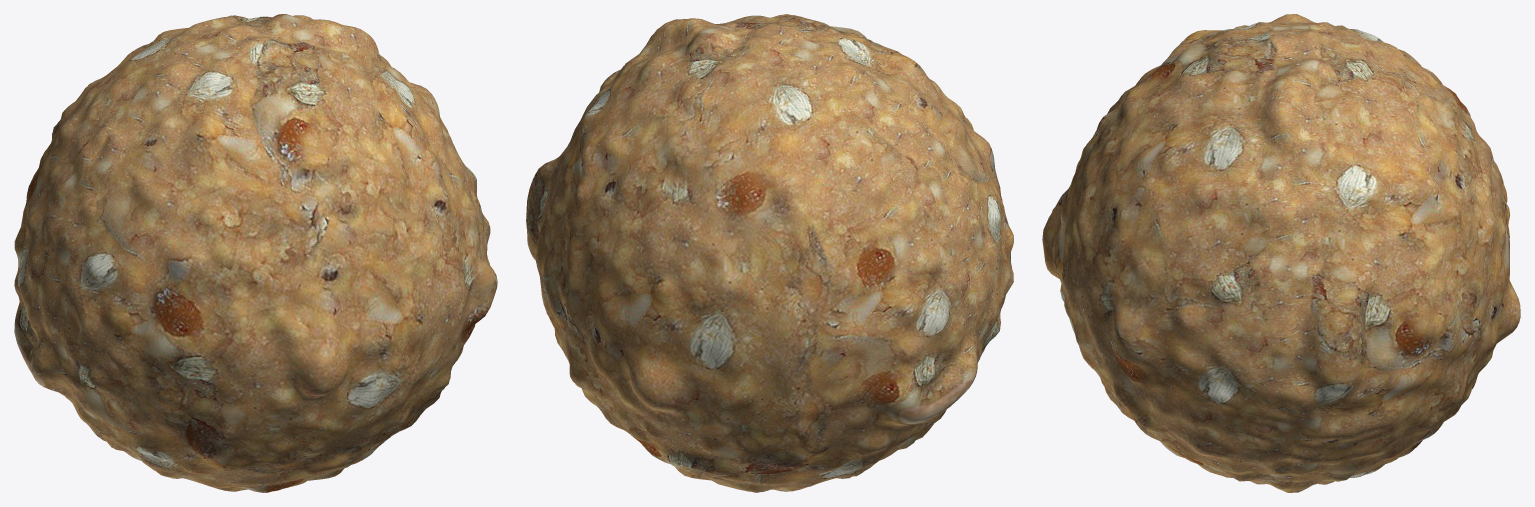
File: laddu.glb
The picture shows the model from 3 angles, left to right: view 1: azimuth 30°, elevation 25°; view 2: azimuth 150°, elevation 25°; view 3: azimuth 270°, elevation 25°; orthographic projection.
Parts seen in each view (by area): view 1: Laddu; view 2: Laddu; view 3: Laddu.
Boxes of the visible parts, x1=… form: Laddu: x1=14, y1=14, x2=497, y2=492; Laddu: x1=526, y1=14, x2=1013, y2=492; Laddu: x1=1042, y1=14, x2=1520, y2=492.
Bounding box in the file's own units: 2.1 × 2.06 × 2.04.
Materials: 1 (1 with a texture image).
